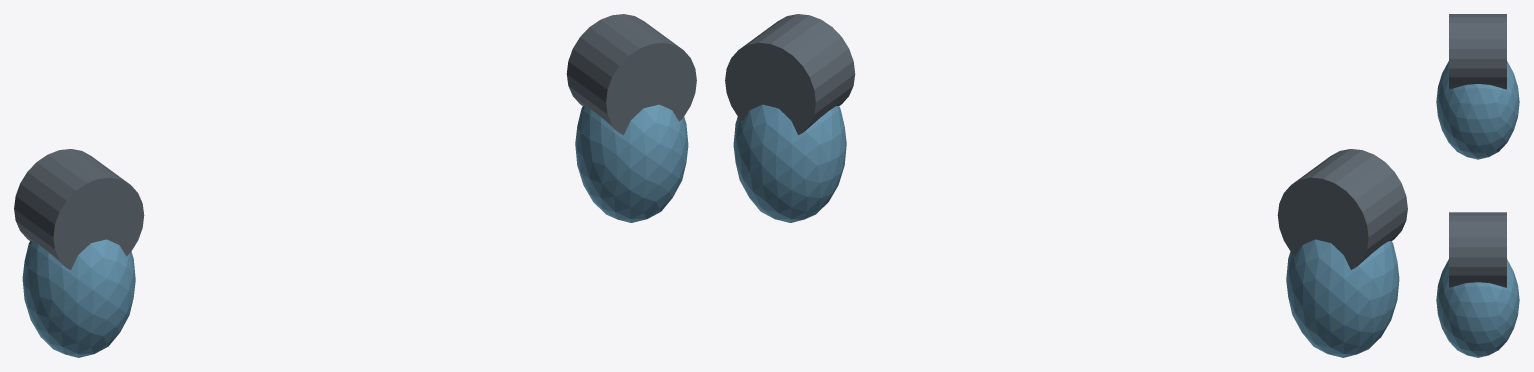
The model's file is gloves_lod1.glb.
3 views of the same model, side by side, from view 1: azimuth 30°, elevation 25°; view 2: azimuth 150°, elevation 25°; view 3: azimuth 270°, elevation 25° (orthographic). The views are drawn at different scales.
Parts seen in each view (by area): view 1: part_1, part_3, part_0, part_2; view 2: part_1, part_3, part_0, part_2; view 3: part_0, part_2, part_3, part_1.
Part boxes in pixels (x1=…): part_1: x1=14, y1=149, x2=144, y2=269; part_3: x1=566, y1=14, x2=696, y2=134; part_0: x1=22, y1=239, x2=135, y2=357; part_2: x1=575, y1=104, x2=688, y2=222; part_1: x1=1277, y1=149, x2=1407, y2=269; part_3: x1=725, y1=14, x2=855, y2=134; part_0: x1=1286, y1=239, x2=1399, y2=357; part_2: x1=733, y1=104, x2=846, y2=222; part_0: x1=1436, y1=61, x2=1519, y2=159; part_2: x1=1436, y1=259, x2=1519, y2=357; part_3: x1=1449, y1=212, x2=1506, y2=287; part_1: x1=1449, y1=14, x2=1506, y2=89.
Bounding box in the file's own units: 1.72 × 0.479 × 0.2592.
